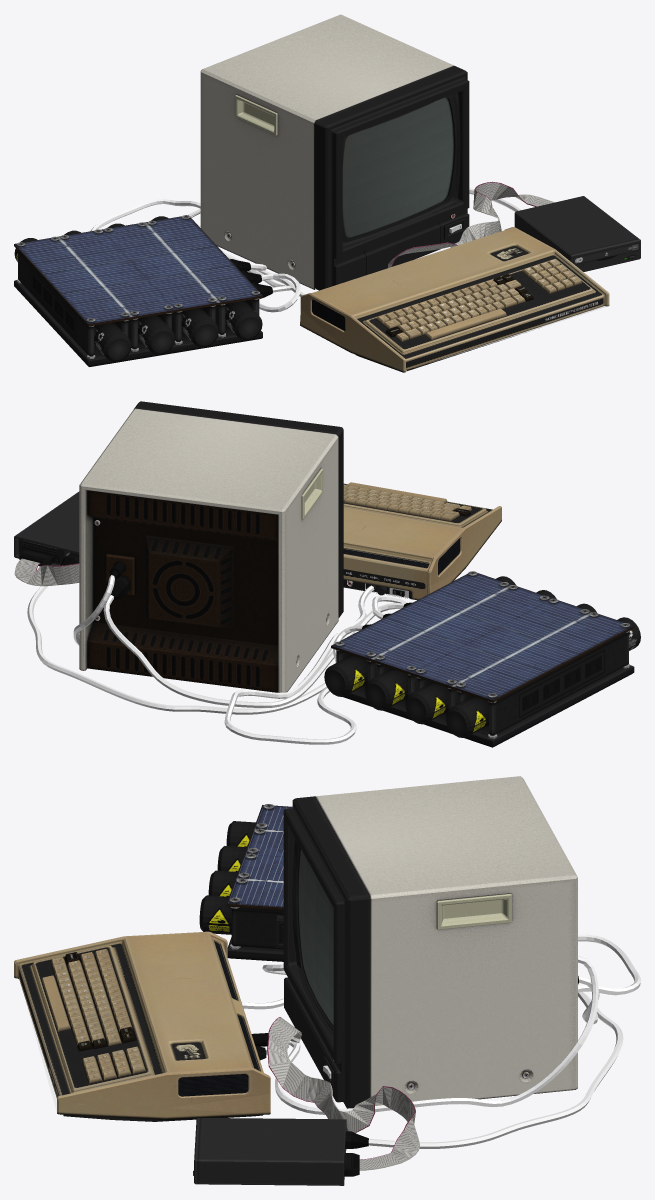
File: SCP-079.gltf
3 views of the same model, one above another, from view 1: azimuth 30°, elevation 25°; view 2: azimuth 150°, elevation 25°; view 3: azimuth 270°, elevation 25° (orthographic). The views are drawn at different scales.
Visible parts, largest first — view 1: ROOT; view 2: ROOT; view 3: ROOT.
Part boxes in pixels (bbox=[...]): ROOT: bbox=[14, 14, 640, 372]; ROOT: bbox=[14, 401, 640, 747]; ROOT: bbox=[14, 776, 640, 1185].
Bounding box in the file's own units: 0.6374 × 0.1994 × 0.5171.
Materials: 12 (9 with a texture image).
